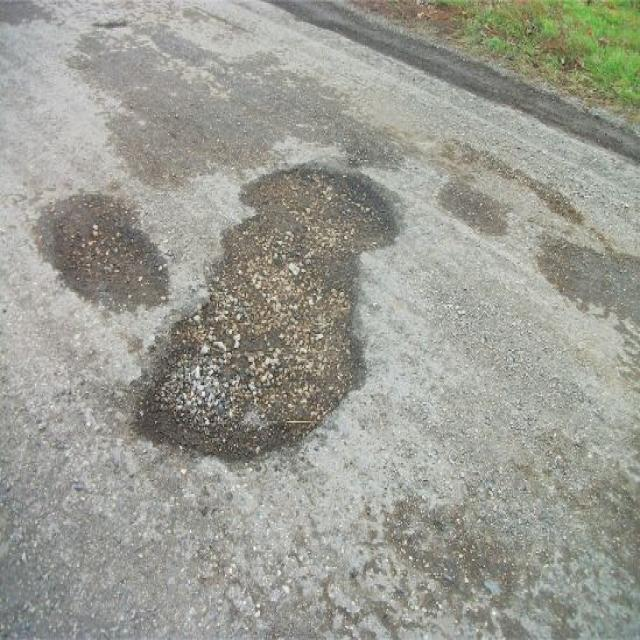pothole: (118, 158, 404, 472), (26, 190, 170, 310)
